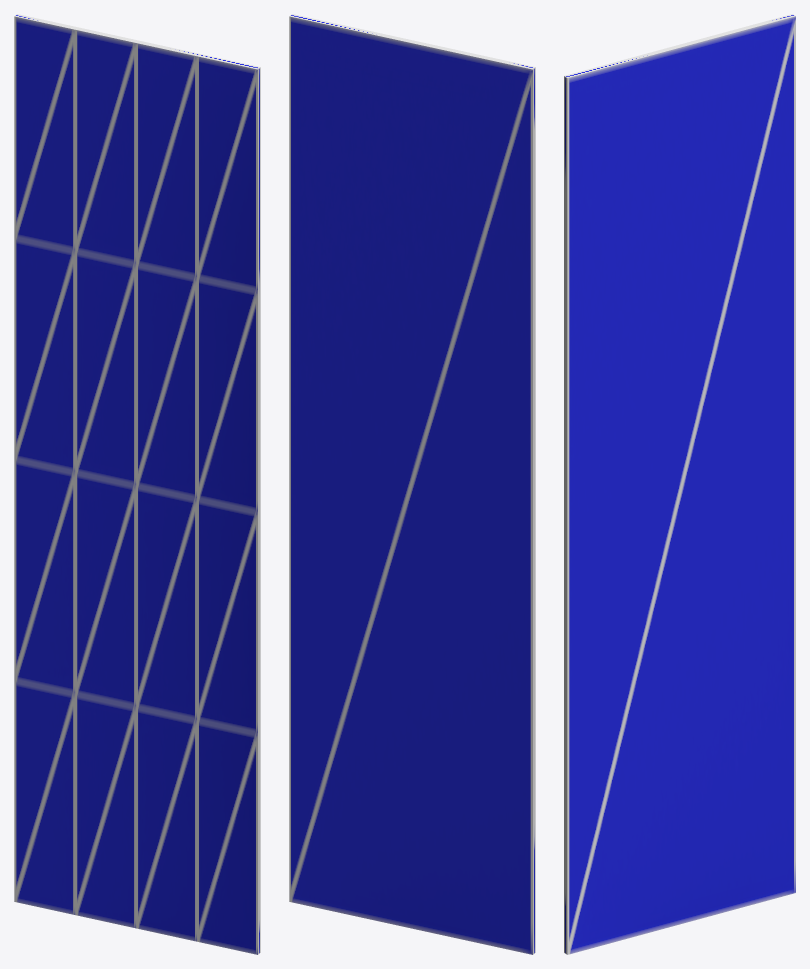
The model's file is spaceStationPanel.glb.
The picture shows the model from 3 angles, left to right: view 1: azimuth 30°, elevation 25°; view 2: azimuth 210°, elevation 25°; view 3: azimuth 270°, elevation 25°; orthographic projection.
Parts seen in each view (by area): view 1: Cube.004; view 2: Cube.004; view 3: Cube.004.
Part boxes in pixels (x1=…): Cube.004: x1=14, y1=14, x2=260, y2=954; Cube.004: x1=289, y1=14, x2=535, y2=954; Cube.004: x1=564, y1=14, x2=795, y2=954.
Size of the model in its own units: 1.12 by 7.13 by 1.71.
1 material, 1 textured.
